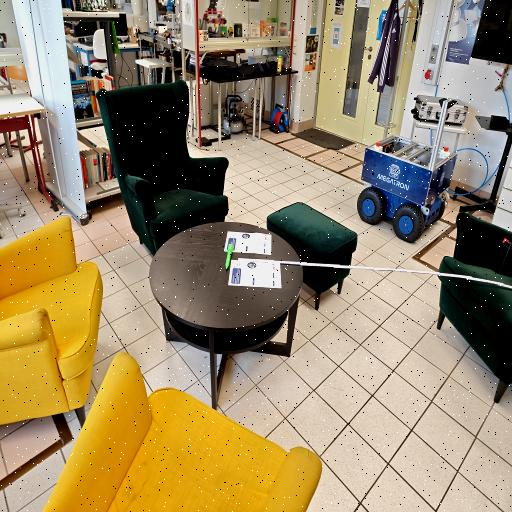Probe-Detection: (226, 243, 233, 270)
